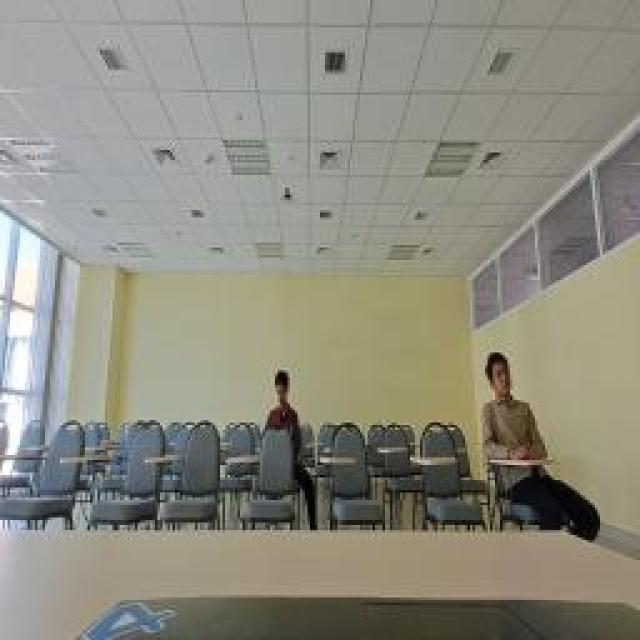study: (482, 352, 548, 462), (260, 370, 298, 435)
